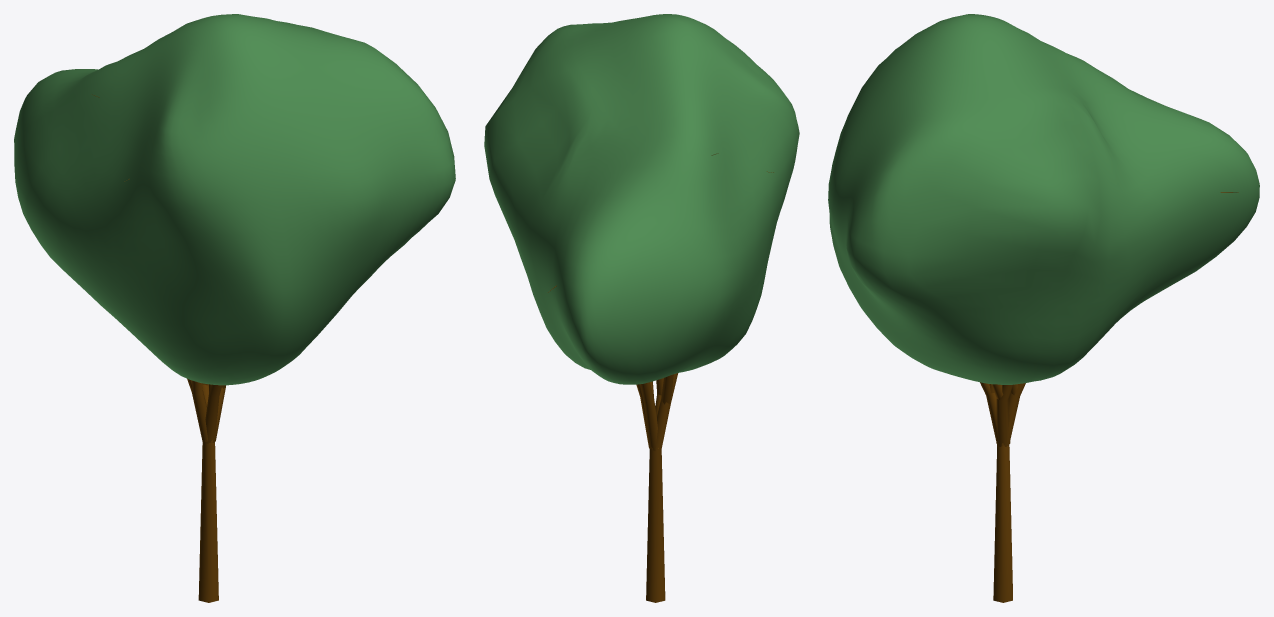
The model's file is Arbre_1.fbx.
3 renders of one model, left to right at view 1: azimuth 30°, elevation 25°; view 2: azimuth 150°, elevation 25°; view 3: azimuth 270°, elevation 25°, orthographic. The views are drawn at different scales.
Visible parts, largest first — view 1: Feuilles, tree; view 2: Feuilles, tree; view 3: Feuilles, tree.
Boxes of the visible parts, bbox=[...] form: Feuilles: bbox=[14, 14, 455, 385]; tree: bbox=[92, 94, 225, 602]; Feuilles: bbox=[484, 14, 799, 384]; tree: bbox=[548, 153, 773, 602]; Feuilles: bbox=[828, 14, 1259, 384]; tree: bbox=[980, 192, 1238, 602].
Bounding box in the file's own units: 527 × 974 × 657.
